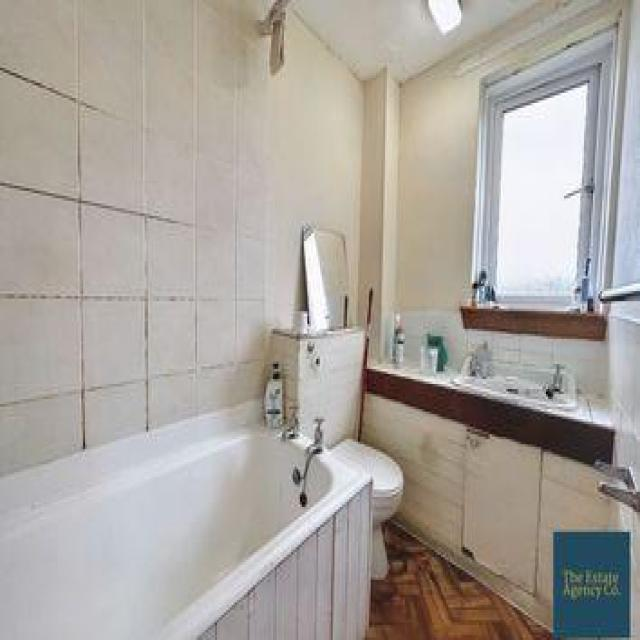Wall: (0, 0, 361, 475), (359, 69, 478, 360), (369, 522, 550, 640), (289, 0, 536, 80), (401, 307, 606, 403), (364, 396, 466, 554), (529, 451, 620, 605), (612, 0, 640, 285), (607, 301, 640, 487), (435, 65, 447, 70)
